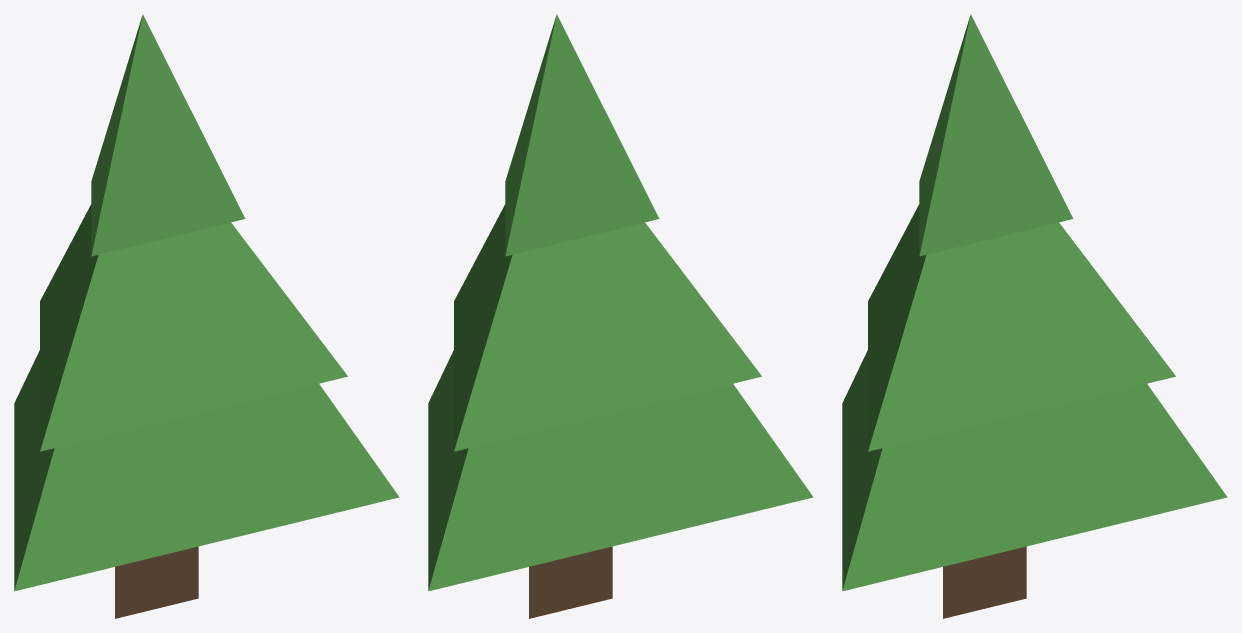
Rendered from Pine Tree.fbx.
The picture shows the model from 3 angles, left to right: view 1: azimuth 30°, elevation 25°; view 2: azimuth 150°, elevation 25°; view 3: azimuth 270°, elevation 25°; orthographic projection.
Visible parts, largest first — view 1: Cylinder; view 2: Cylinder; view 3: Cylinder.
Boxes of the visible parts, bbox=[...] form: Cylinder: bbox=[14, 14, 399, 618]; Cylinder: bbox=[428, 14, 813, 618]; Cylinder: bbox=[842, 14, 1227, 618].
Bounding box in the file's own units: 690 × 1156 × 797.
